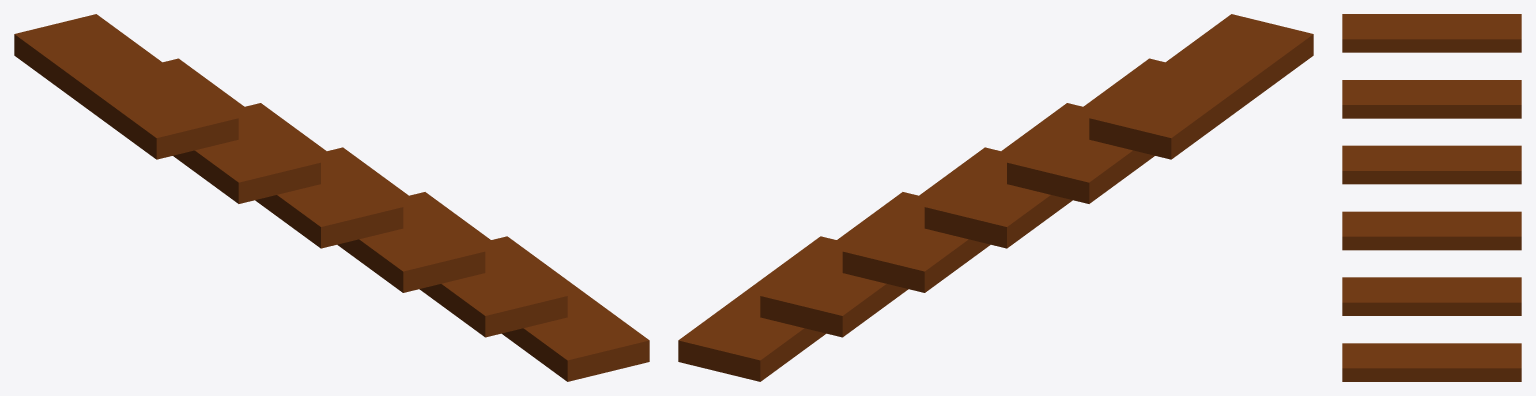
The model's file is stairs.glb.
3 renders of one model, left to right at view 1: azimuth 30°, elevation 25°; view 2: azimuth 150°, elevation 25°; view 3: azimuth 270°, elevation 25°, orthographic. The views are drawn at different scales.
Parts seen in each view (by area): view 1: Cube.156, Cube.179, Cube.180, Cube.182, Cube.183, Cube.181; view 2: Cube.156, Cube.179, Cube.180, Cube.182, Cube.183, Cube.181; view 3: Cube.180, Cube.181, Cube.156, Cube.179, Cube.182, Cube.183.
Boxes of the visible parts, left/top/right/bottom form: Cube.156: left=14, top=14, right=238, bottom=159; Cube.179: left=163, top=58, right=320, bottom=203; Cube.180: left=245, top=103, right=403, bottom=248; Cube.182: left=491, top=236, right=649, bottom=381; Cube.183: left=409, top=192, right=567, bottom=337; Cube.181: left=327, top=147, right=485, bottom=292; Cube.156: left=1089, top=14, right=1313, bottom=159; Cube.179: left=1007, top=58, right=1164, bottom=203; Cube.180: left=924, top=103, right=1082, bottom=248; Cube.182: left=678, top=236, right=836, bottom=381; Cube.183: left=760, top=192, right=918, bottom=337; Cube.181: left=842, top=147, right=1000, bottom=292; Cube.180: left=1342, top=145, right=1521, bottom=184; Cube.181: left=1342, top=211, right=1521, bottom=250; Cube.156: left=1342, top=14, right=1521, bottom=52; Cube.179: left=1342, top=80, right=1521, bottom=118; Cube.182: left=1342, top=343, right=1521, bottom=381; Cube.183: left=1342, top=277, right=1521, bottom=315.
Size of what is drawn, in the model's own units: 2.4 by 1.6 by 1.2.
